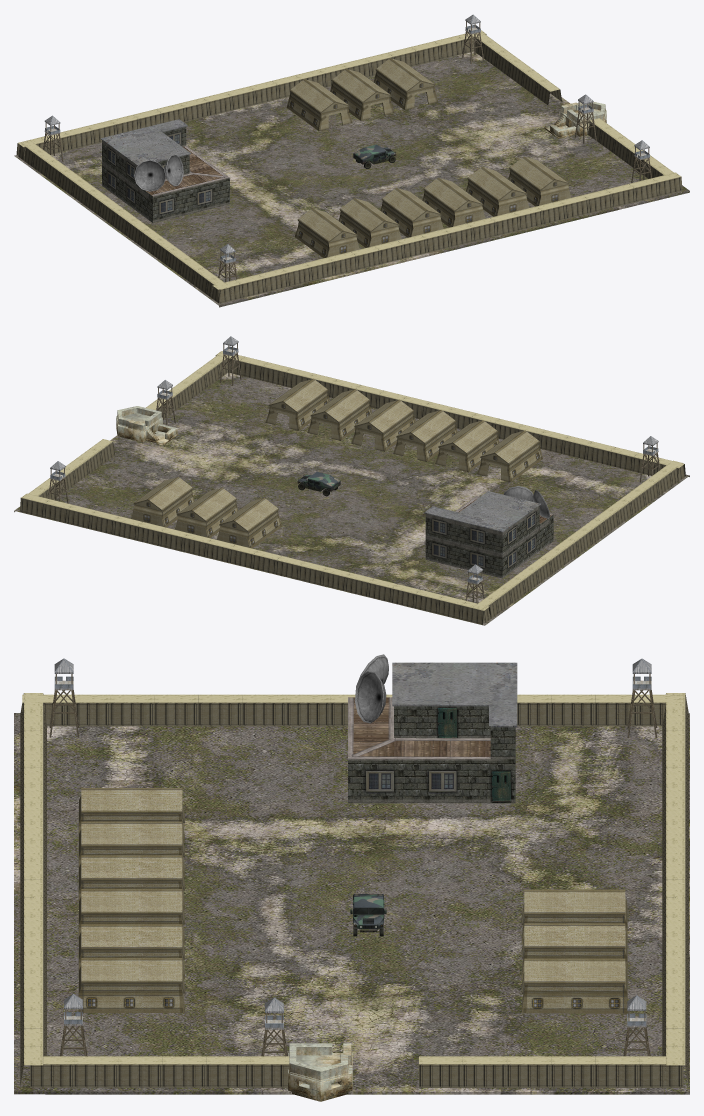
3 views of the same model, one above another, from view 1: azimuth 30°, elevation 25°; view 2: azimuth 150°, elevation 25°; view 3: azimuth 270°, elevation 25° (orthographic). The views are drawn at different scales.
Parts seen in each view (by area): view 1: ground, fence_1, bilding001, tent_07 (×2), tent_06, tent_08, tent_02, tent_01, tent_04, tent_03, tent_05, Bunkers (+6 smaller); view 2: ground, fence_1, bilding001, tent_07 (×2), tent_08, tent_06, tent_02, tent_01, tent_03, tent_04, tent_05, Bunkers (+6 smaller); view 3: ground, fence_1, bilding001, tent_07 (×2), tent_01, tent_03, tent_05, tent_08, tent_06, tent_02, tent_04, Bunkers (+7 smaller).
Part boxes in pixels (x1,y1,x2,y2): ground: (14, 51, 689, 307); fence_1: (16, 30, 682, 303); bilding001: (100, 119, 229, 222); tent_07 (×2): (330, 58, 438, 120); tent_06: (294, 208, 359, 257); tent_08: (286, 79, 352, 130); tent_02: (466, 167, 529, 216); tent_01: (508, 156, 571, 206); tent_04: (380, 188, 443, 237); tent_03: (422, 177, 485, 227); tent_05: (338, 198, 401, 247); Bunkers: (544, 102, 606, 138); ground: (14, 373, 689, 625); fence_1: (19, 351, 685, 624); bilding001: (424, 486, 553, 578); tent_07 (×2): (131, 477, 238, 537); tent_08: (216, 498, 281, 548); tent_06: (477, 430, 542, 482); tent_02: (307, 389, 371, 440); tent_01: (265, 378, 329, 430); tent_03: (351, 399, 415, 451); tent_04: (393, 410, 457, 461); tent_05: (435, 420, 499, 472); Bunkers: (116, 406, 177, 445); ground: (14, 713, 689, 1094); fence_1: (20, 693, 688, 1087); bilding001: (348, 654, 517, 803); tent_07 (×2): (521, 923, 627, 1013); tent_01: (78, 958, 184, 1012); tent_03: (78, 889, 184, 943); tent_05: (78, 821, 184, 876); tent_08: (521, 889, 627, 944); tent_06: (78, 788, 184, 842); tent_02: (78, 924, 184, 979); tent_04: (78, 855, 184, 910); Bunkers: (288, 1043, 352, 1101).
Size of the model in its own units: 113 by 12.78 by 83.87.
